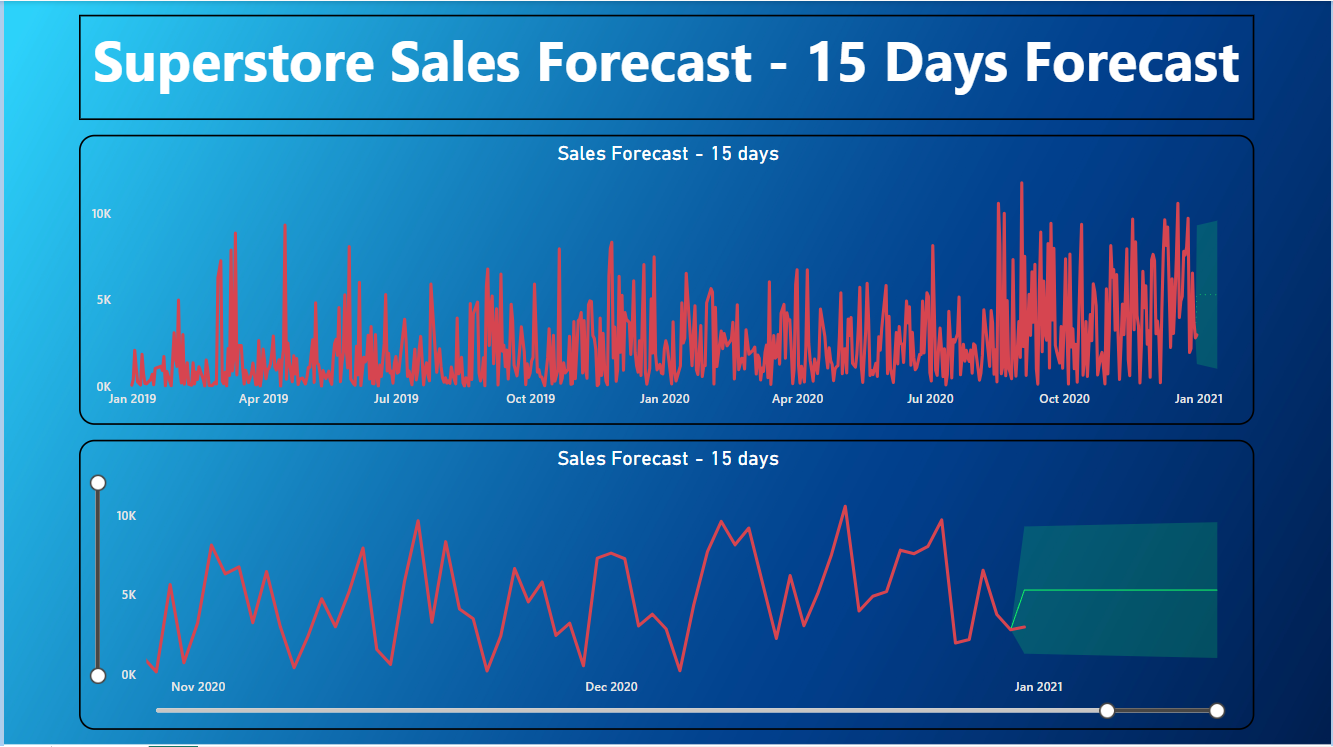

The page's visual inventory and layout, read from the dashboard file:
{"tool":"powerbi","page":{"name":"Page 2","canvas":[1280,720],"ordinal":1},"visuals":[{"type":"lineChart","title":"Sales Forecast - 15 days","fields":{"Y":["Sum(SuperStore_Sales_Dataset.Sales)"],"Category":["SuperStore_Sales_Dataset.Order Date"]},"box":[72.4,129.1,1134.1,280],"z":0},{"type":"lineChart","title":"Sales Forecast - 15 days","fields":{"Y":["Sum(SuperStore_Sales_Dataset.Sales)"],"Category":["SuperStore_Sales_Dataset.Order Date"]},"box":[72.4,423.5,1134.1,279.9],"z":1000},{"type":"textbox","box":[72.4,13.3,1134.1,101.3],"z":2000}]}

Visuals, with their boxes in screenshot pixels (x1, y1, x2, y2), scaled from the page's 1280x720 canvas onto the 1333x747 screenshot:
"Sales Forecast - 15 days" lineChart: pyautogui.locateOnScreen(75, 134, 1256, 424)
"Sales Forecast - 15 days" lineChart: pyautogui.locateOnScreen(75, 439, 1256, 730)
textbox: pyautogui.locateOnScreen(75, 14, 1256, 119)
